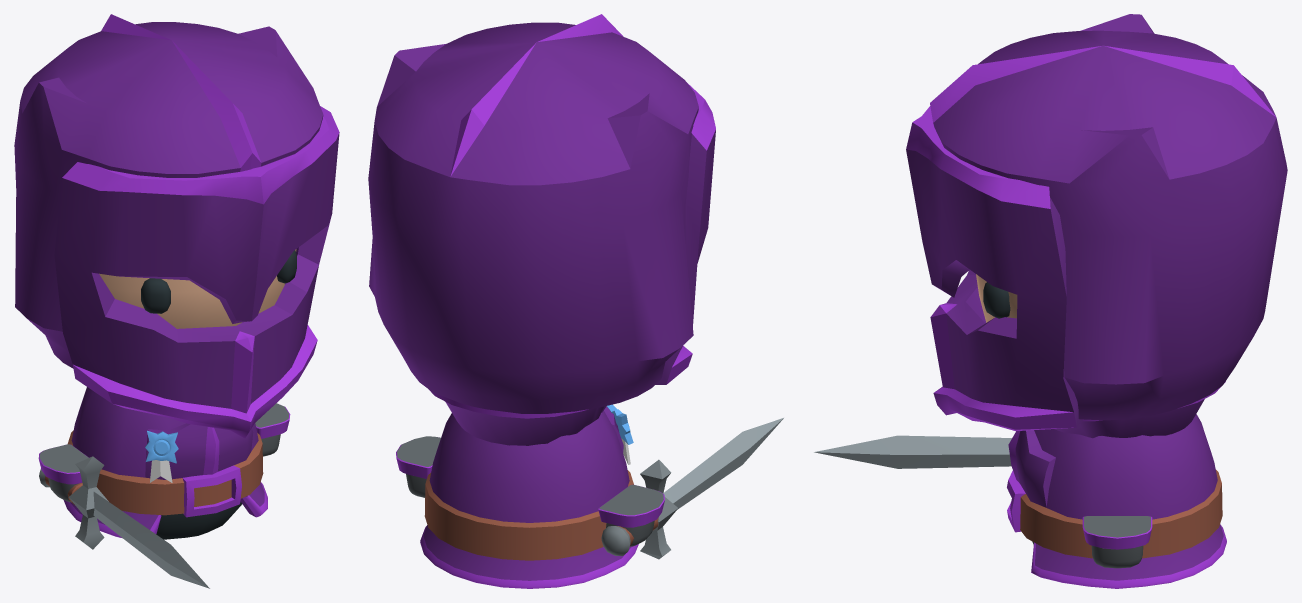
Rendered from character_knight_dagger.fbx.
3 renders of one model, left to right at view 1: azimuth 30°, elevation 25°; view 2: azimuth 150°, elevation 25°; view 3: azimuth 270°, elevation 25°, orthographic. The views are drawn at different scales.
Parts seen in each view (by area): view 1: character_knightHelmetVisor, character_knightHelmet, character_knightBody_dagger, character_knightHead, dagger_uncommon, character_knightArmRight, character_knightArmLeft; view 2: character_knightHelmet, character_knightBody_dagger, dagger_uncommon, character_knightHelmetVisor, character_knightArmRight, character_knightArmLeft; view 3: character_knightHelmet, character_knightHelmetVisor, character_knightBody_dagger, dagger_uncommon, character_knightArmLeft, character_knightHead.
Part boxes in pixels (x1,y1,x2,y2): character_knightHelmetVisor: (54, 106, 339, 438); character_knightHelmet: (14, 14, 323, 368); character_knightBody_dagger: (63, 387, 267, 539); character_knightHead: (99, 249, 296, 328); dagger_uncommon: (39, 456, 209, 588); character_knightArmRight: (38, 444, 88, 502); character_knightArmLeft: (255, 403, 290, 456); character_knightHelmet: (368, 14, 698, 413); character_knightBody_dagger: (420, 389, 638, 588); dagger_uncommon: (601, 418, 783, 559); character_knightHelmetVisor: (655, 83, 715, 384); character_knightArmRight: (598, 484, 664, 546); character_knightArmLeft: (396, 436, 440, 497); character_knightHelmet: (930, 14, 1287, 420); character_knightHelmetVisor: (906, 106, 1083, 431); character_knightBody_dagger: (1007, 381, 1226, 588); dagger_uncommon: (814, 435, 1011, 468); character_knightArmLeft: (1082, 516, 1152, 568); character_knightHead: (976, 274, 1017, 322).
Size of the model in its own units: 1.21 by 1.97 by 1.66.
